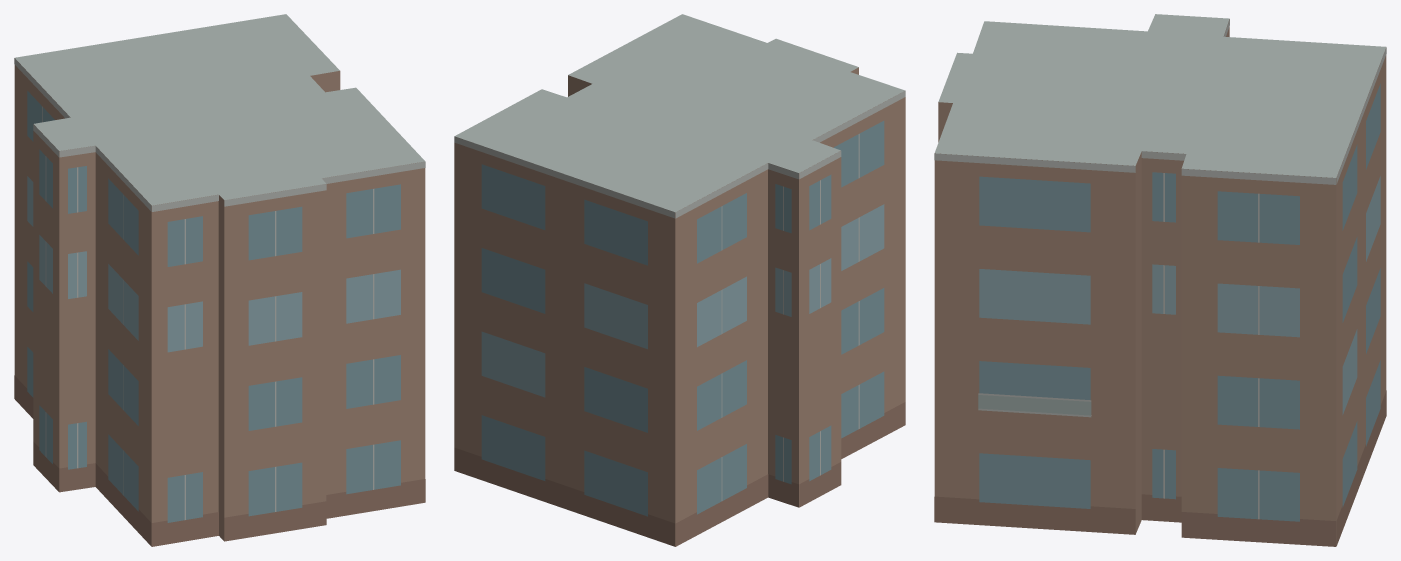
The model's file is survey-upis-32876208.glb.
3 views of the same model, side by side, from view 1: azimuth 30°, elevation 25°; view 2: azimuth 150°, elevation 25°; view 3: azimuth 270°, elevation 25° (orthographic). The views are drawn at different scales.
Parts seen in each view (by area): view 1: survey-upis-32876208.tmp; view 2: survey-upis-32876208.tmp; view 3: survey-upis-32876208.tmp.
Part boxes in pixels (<box>): survey-upis-32876208.tmp: <box>14,14,425,546</box>; survey-upis-32876208.tmp: <box>454,14,905,546</box>; survey-upis-32876208.tmp: <box>934,14,1386,546</box>.
Size of the model in its own units: 12.31 by 12.9 by 14.34.
